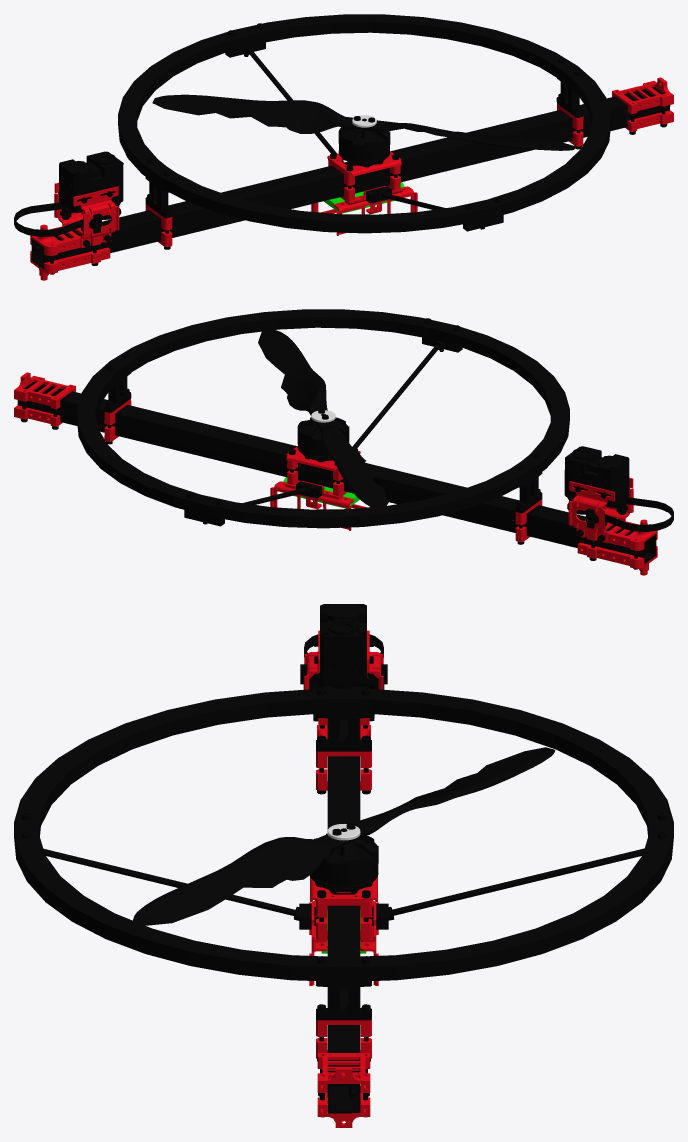
3 renders of one model, top to bottom at view 1: azimuth 30°, elevation 25°; view 2: azimuth 150°, elevation 25°; view 3: azimuth 270°, elevation 25°, orthographic. The views are drawn at different scales.
Visible parts, largest first — view 1: link4_black_part, link4_red_part; view 2: link4_black_part, link4_red_part; view 3: link4_black_part, link4_red_part.
Part boxes in pixels (box(x1,y1,x2,y2)): link4_black_part: box(14, 14, 670, 274); link4_red_part: box(30, 77, 673, 280); link4_black_part: box(17, 309, 673, 569); link4_red_part: box(14, 372, 657, 575); link4_black_part: box(14, 604, 673, 1117); link4_red_part: box(304, 630, 383, 1127).
Bounding box in the file's own units: 0.6063 × 0.3997 × 0.1098.
